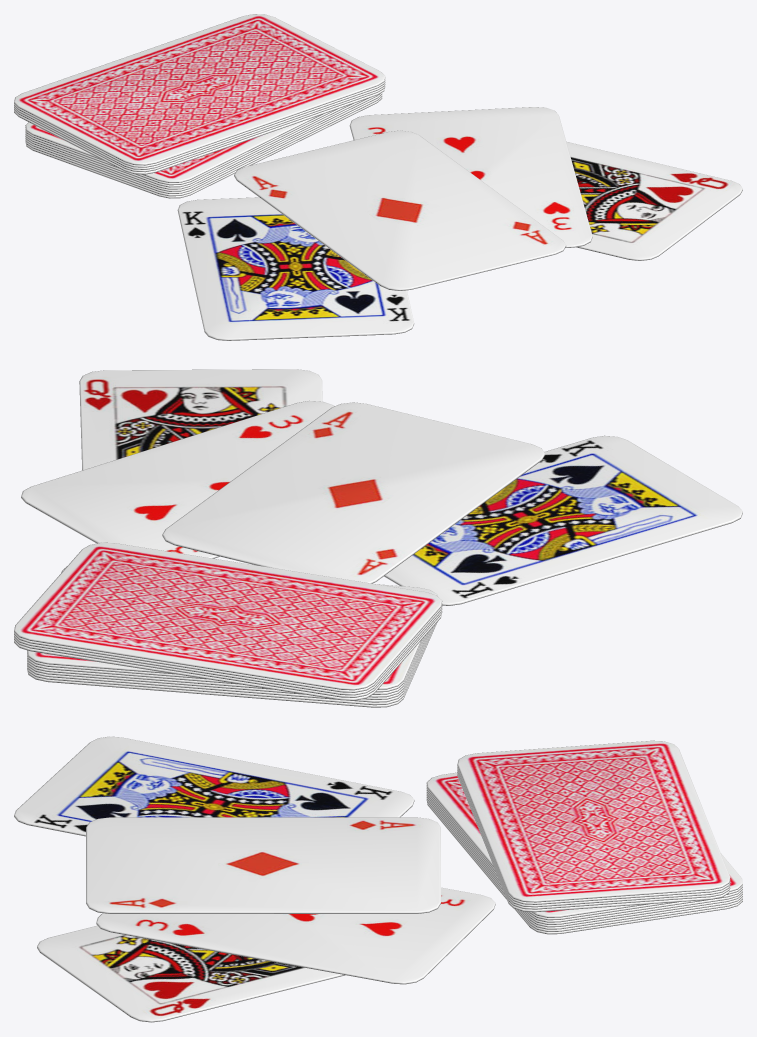
Rendered from cards.fbx.
3 renders of one model, top to bottom at view 1: azimuth 30°, elevation 25°; view 2: azimuth 150°, elevation 25°; view 3: azimuth 270°, elevation 25°, orthographic. The views are drawn at different scales.
Parts seen in each view (by area): view 1: Cards; view 2: Cards; view 3: Cards.
Boxes of the visible parts, x1=… form: Cards: x1=14, y1=14, x2=742, y2=340; Cards: x1=14, y1=369, x2=742, y2=707; Cards: x1=14, y1=736, x2=742, y2=1022.
Size of the model in its own units: 3.06 by 0.1565 by 3.29.
